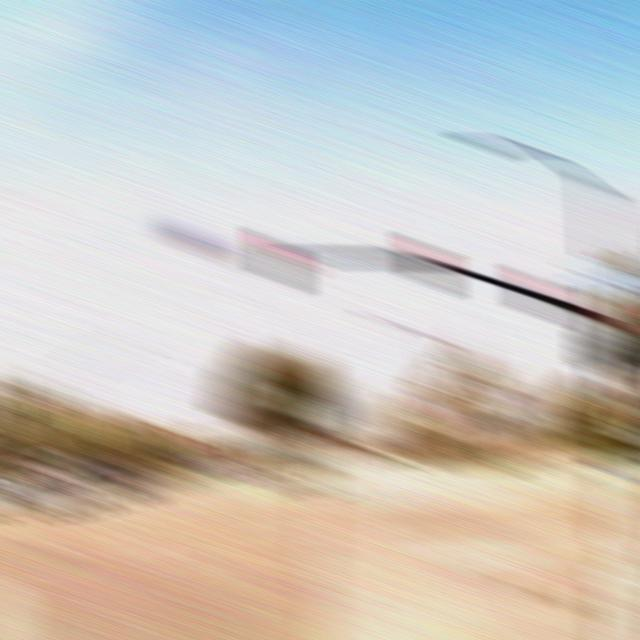speedLimit50: (279, 389, 313, 420)
